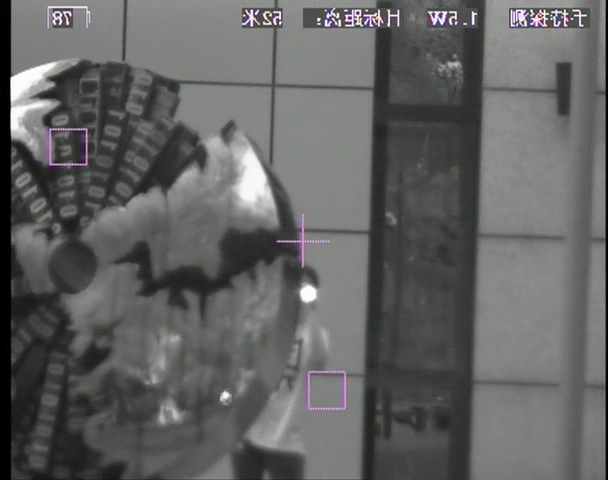my: (298, 284, 318, 303)
